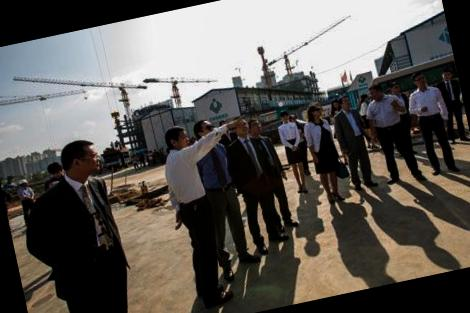no_helmet: (57, 134, 108, 189), (190, 113, 221, 146), (162, 121, 193, 153), (304, 99, 328, 124), (335, 90, 358, 114), (408, 68, 431, 92), (229, 113, 250, 138), (366, 80, 388, 103), (247, 114, 267, 137), (46, 160, 64, 182), (390, 78, 405, 98), (276, 108, 292, 125), (440, 66, 454, 83)
